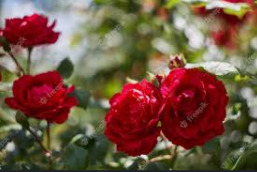RedRose: (161, 59, 228, 147), (102, 74, 167, 154), (9, 63, 79, 136), (3, 13, 63, 53)
